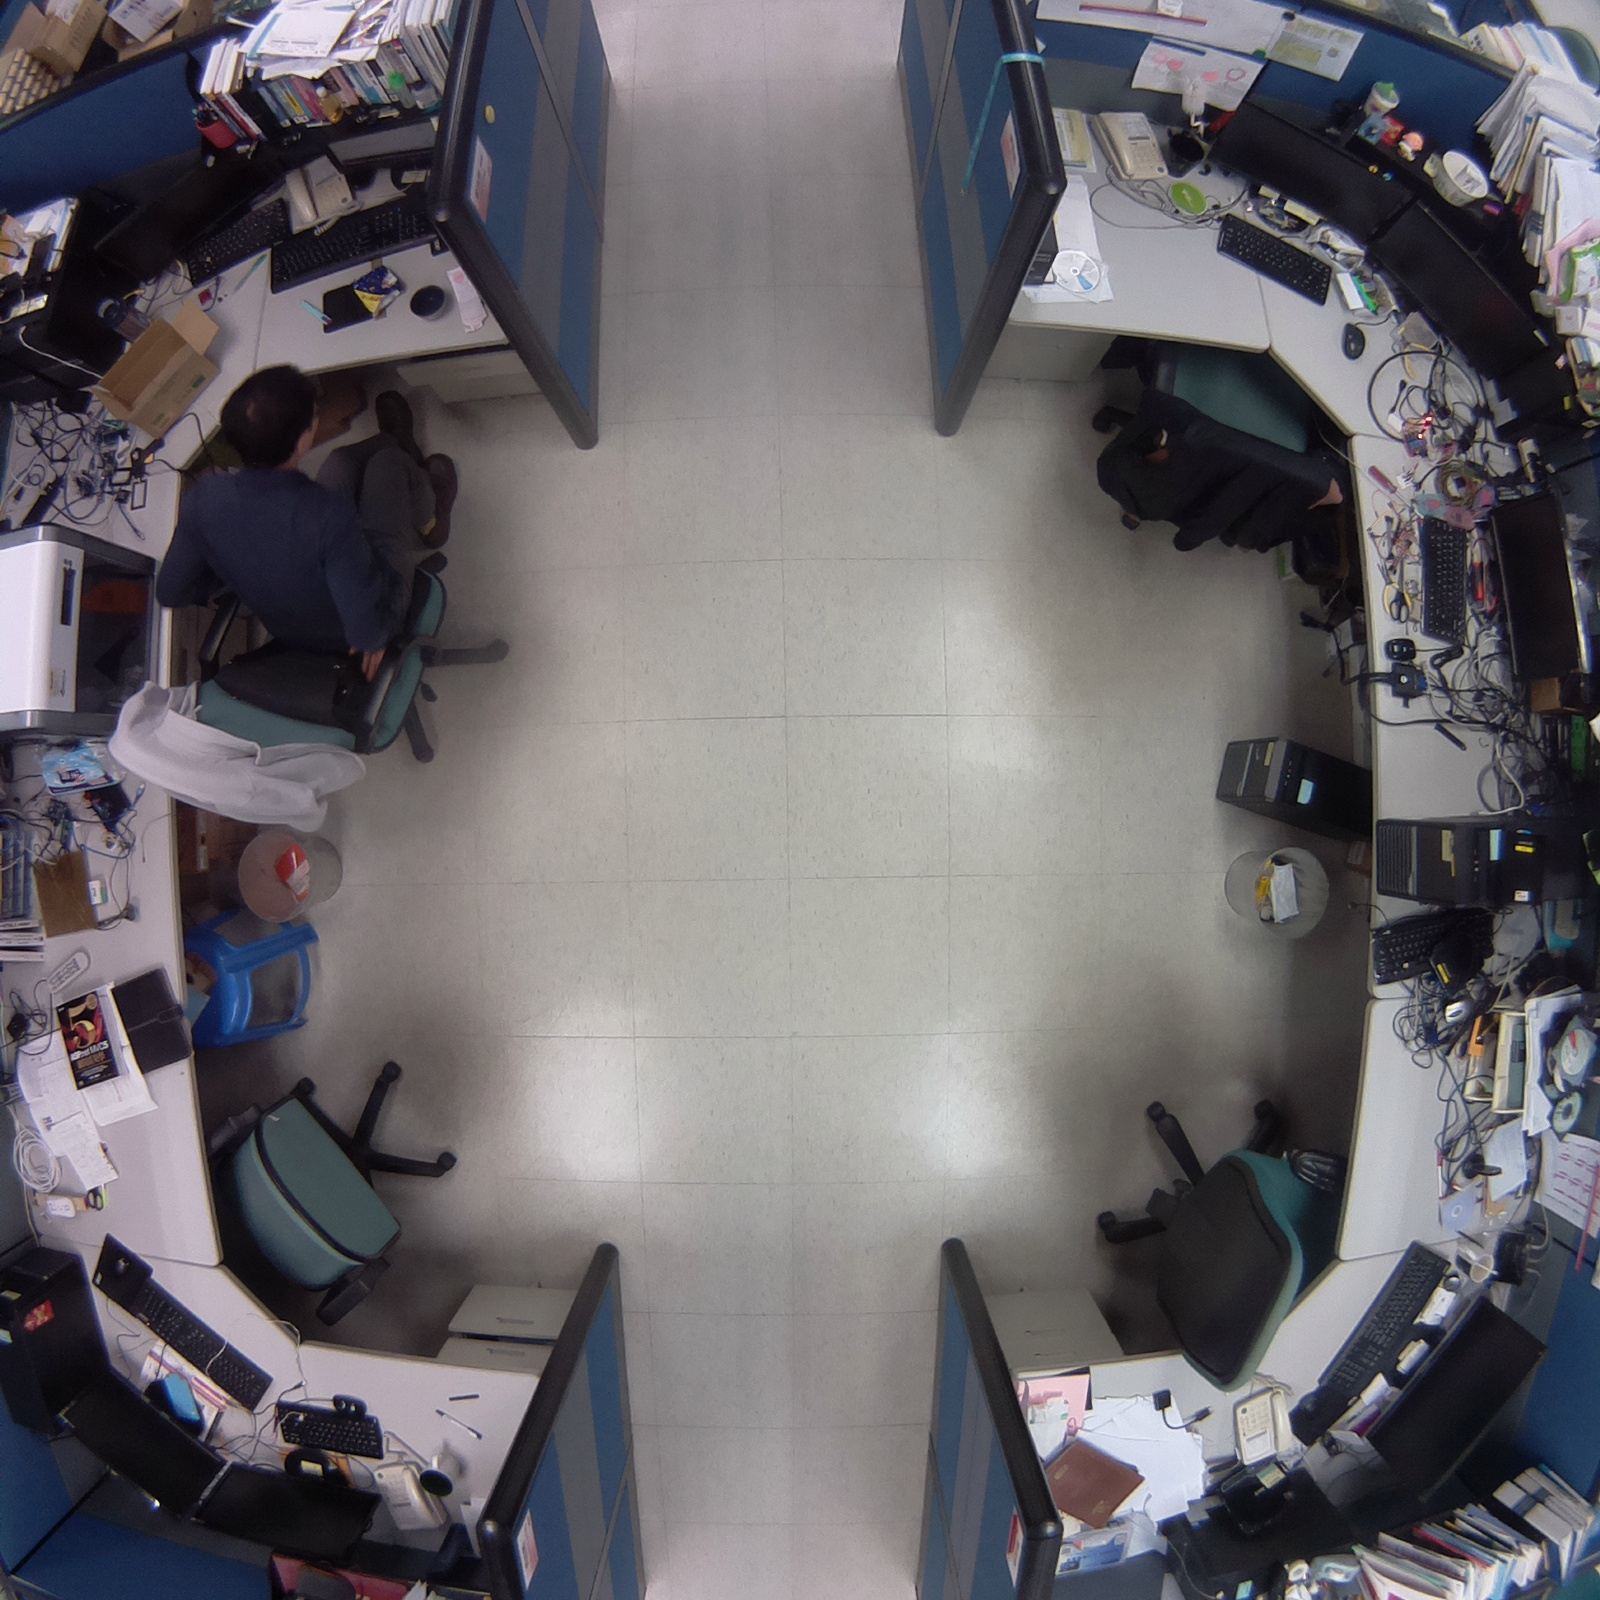chair: (1065, 1068, 1358, 1409), (196, 1040, 476, 1334), (1083, 317, 1350, 565)
head: (217, 359, 321, 465)
sitting: (76, 366, 535, 852)
